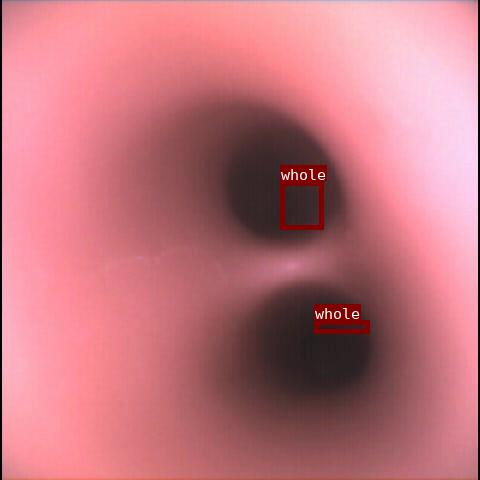whole: (280, 181, 323, 229), (314, 320, 369, 333)
